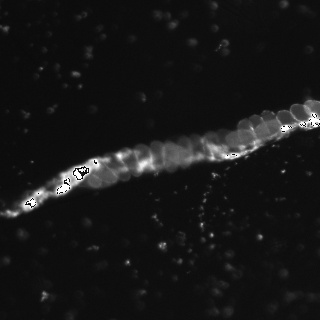embryo: (101, 153, 131, 181), (116, 148, 143, 176), (161, 141, 180, 172), (254, 118, 280, 139), (133, 144, 153, 170), (248, 115, 270, 138), (225, 129, 256, 145), (237, 118, 254, 144), (260, 110, 280, 132), (173, 142, 192, 165), (150, 141, 165, 170), (176, 135, 201, 151), (99, 165, 118, 186), (290, 104, 309, 121), (84, 172, 102, 188), (277, 110, 295, 124), (216, 129, 231, 142), (203, 132, 220, 142)
